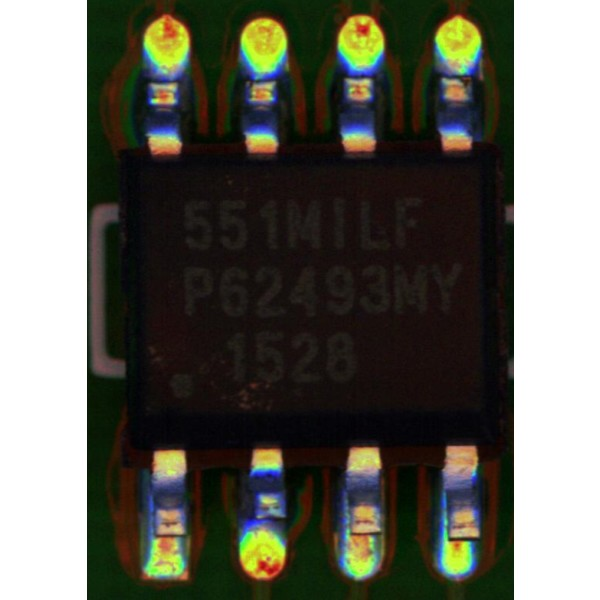Bad_podu: (157, 528, 182, 547), (350, 525, 376, 542), (450, 531, 472, 551)
Bad_qiaojiao: (439, 486, 449, 536), (148, 476, 155, 539), (343, 489, 348, 536)
